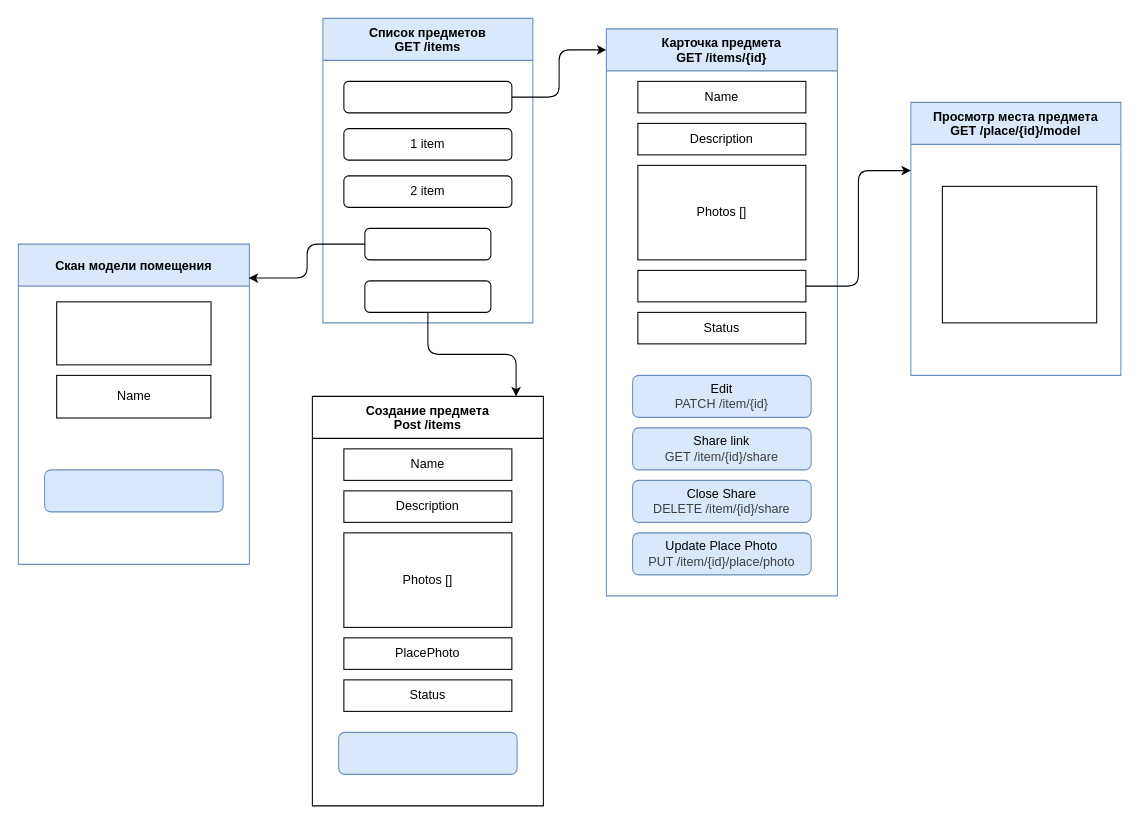
This 1139x824 diagram has some shape labels left out. Here are the shapes that lost their labels. From the top down, the centre of each, then its label:
At (x=427, y=96): "0 item".
At (x=427, y=243): "Scan location".
At (x=1019, y=254): "Загрузка и отображение 3д модели помещения".
At (x=427, y=296): "Create item".
At (x=721, y=285): "PlaceData".
At (x=133, y=333): "Сканирование помещения (3d model)".
At (x=133, y=490): "Send 3D model POST /place".
At (x=427, y=752): "Create POST /items".
